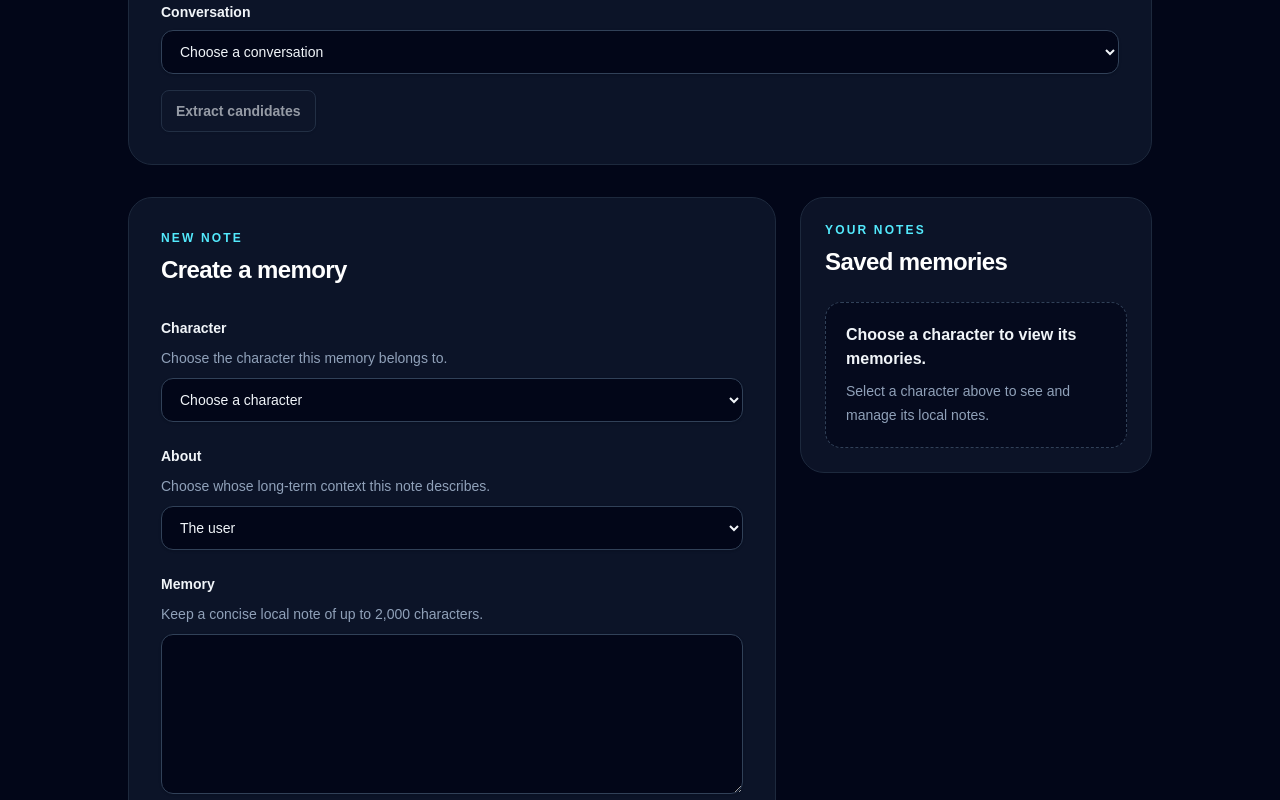
it: MemoryManagementScreen › creates and edits a memory for the selected character
(page scrolled)
Expected: the heading "Create a memory" is shown, [161,254,347,286]
Step 1. Select "Astra" in the dropdown labelled "Character" → (452, 400), box [161,378,743,422]
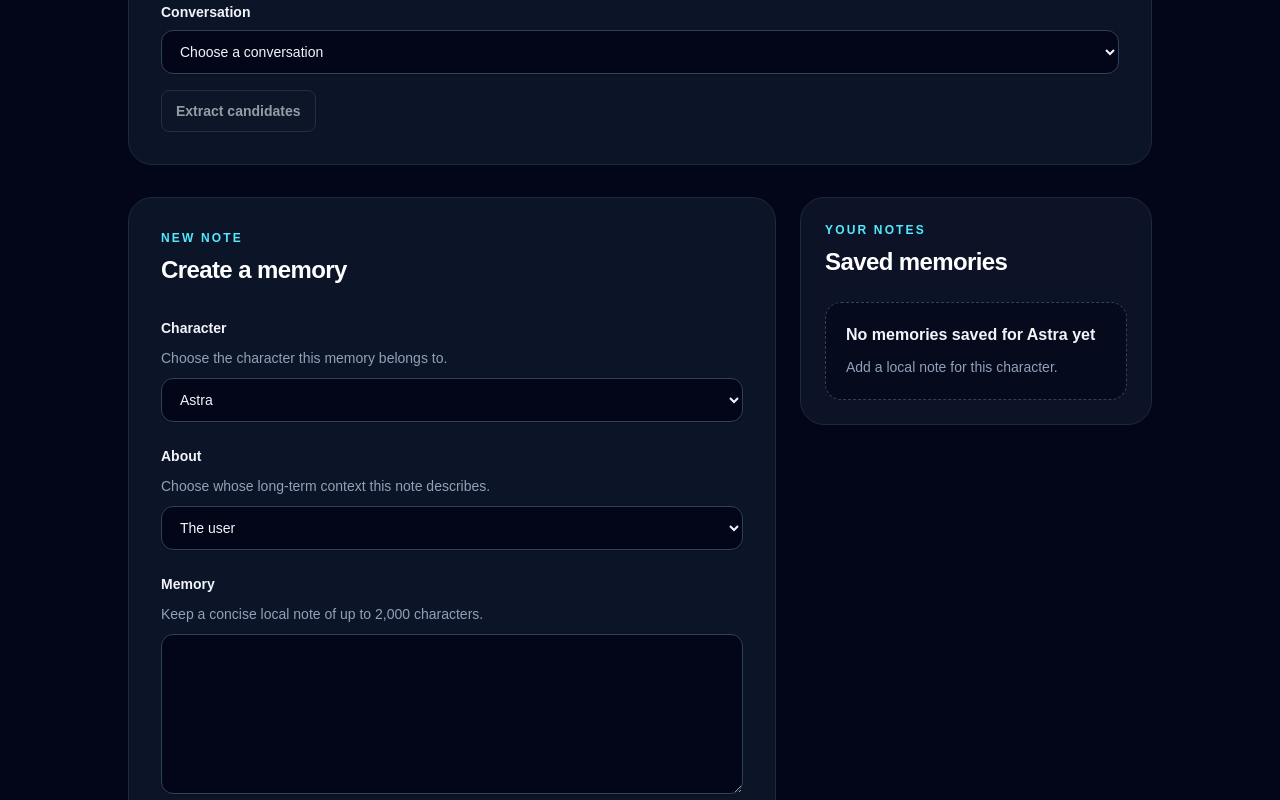
Step 2. Type "Prefers concise answers." into the text box labelled "Memory" → (452, 714), box [161,634,743,794]
(page scrolled)
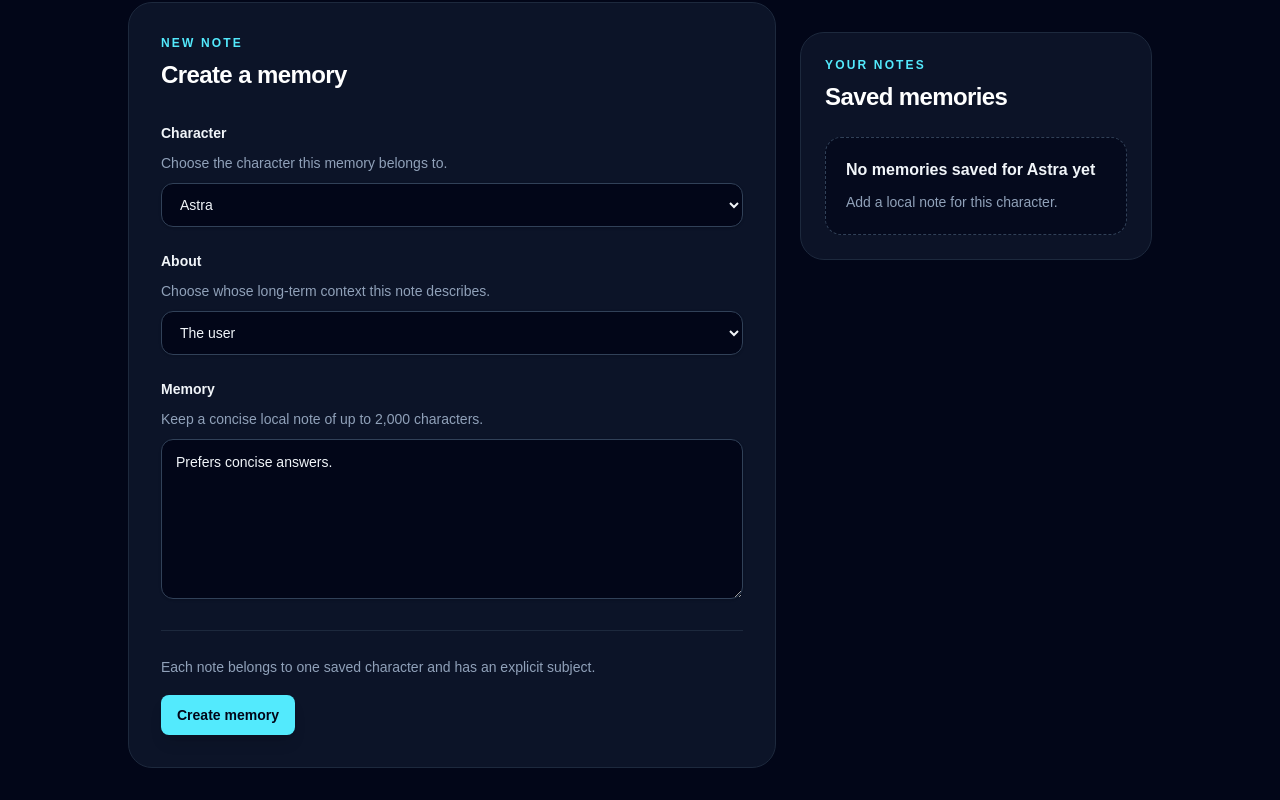
Step 3. Click the button "Create memory" → (228, 715), box [161,695,295,735]
(page scrolled)
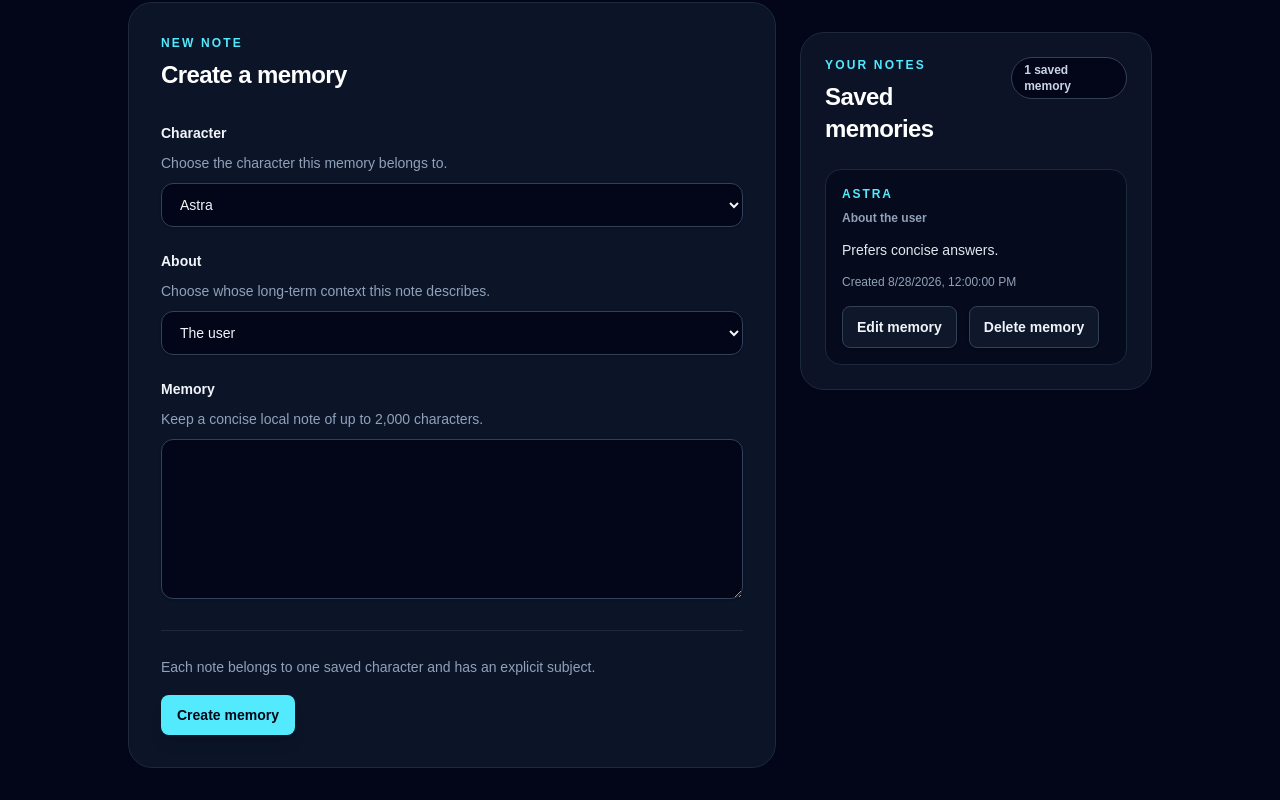
Now the text "Prefers concise answers." is shown, box [842,242,998,258]
Now the button with aria-label "Delete memory 1: Prefers concise answers." is shown, box [969,306,1099,348]
Step 4. Click the button with aria-label "Edit memory 1: Prefers concise answers." → (899, 327), box [842,306,957,348]
(page scrolled)
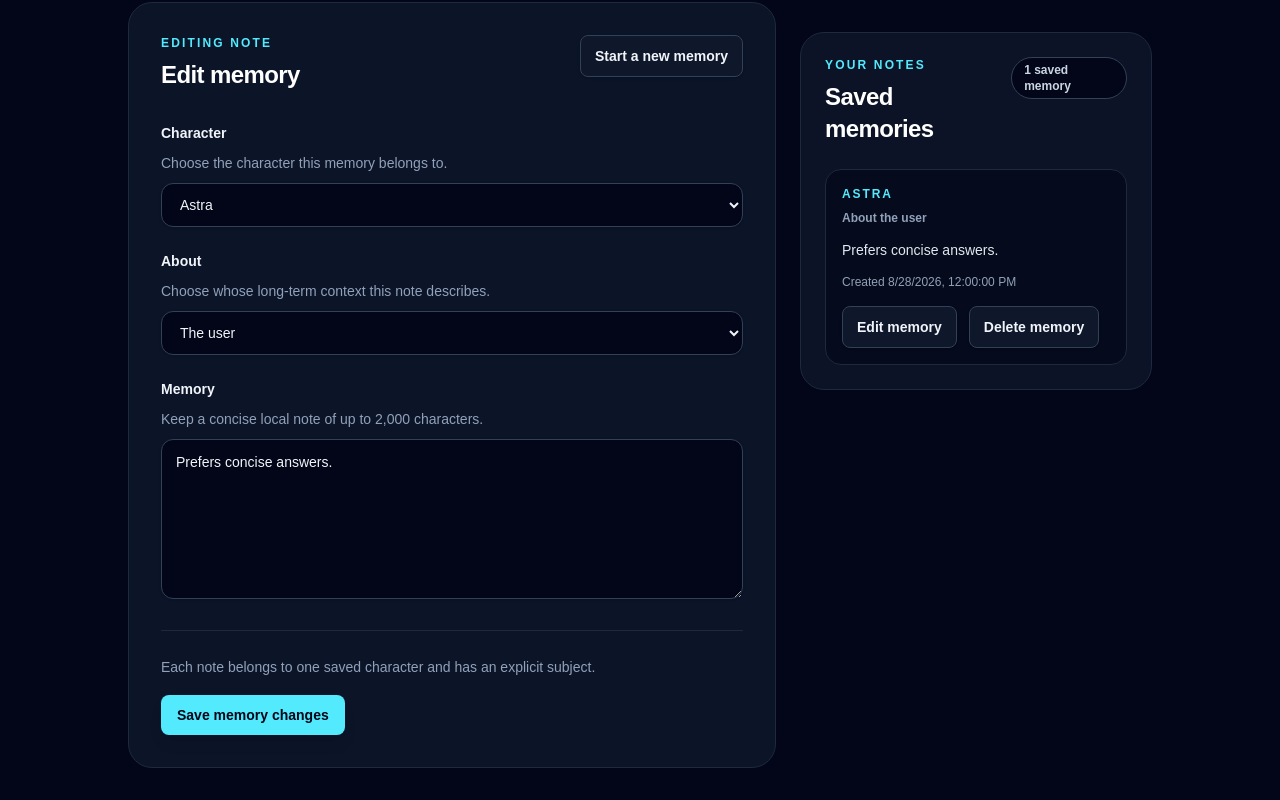
Step 5. Replace the text in the text box labelled "Memory" with "Prefers direct answers." → (452, 519), box [161,439,743,599]
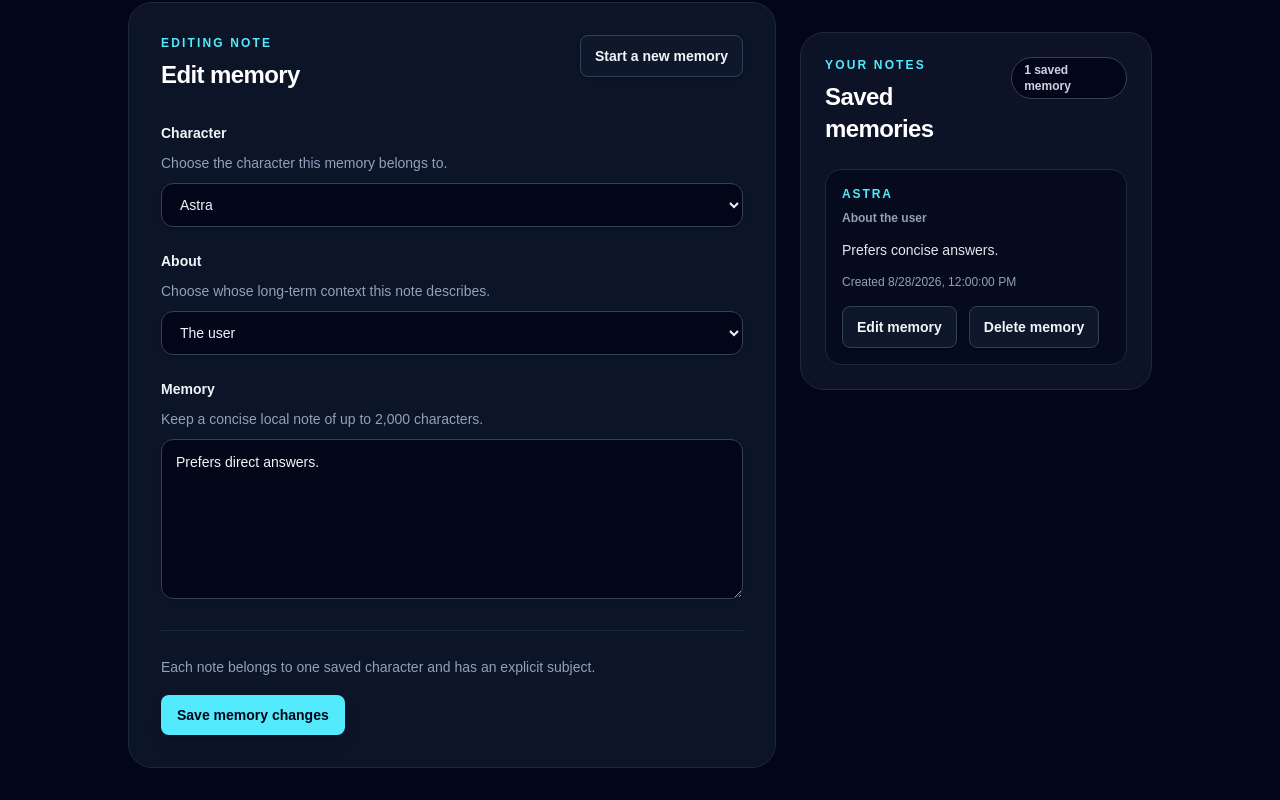
Step 6. Click the button "Save memory changes" → (253, 715), box [161,695,345,735]
(page scrolled)
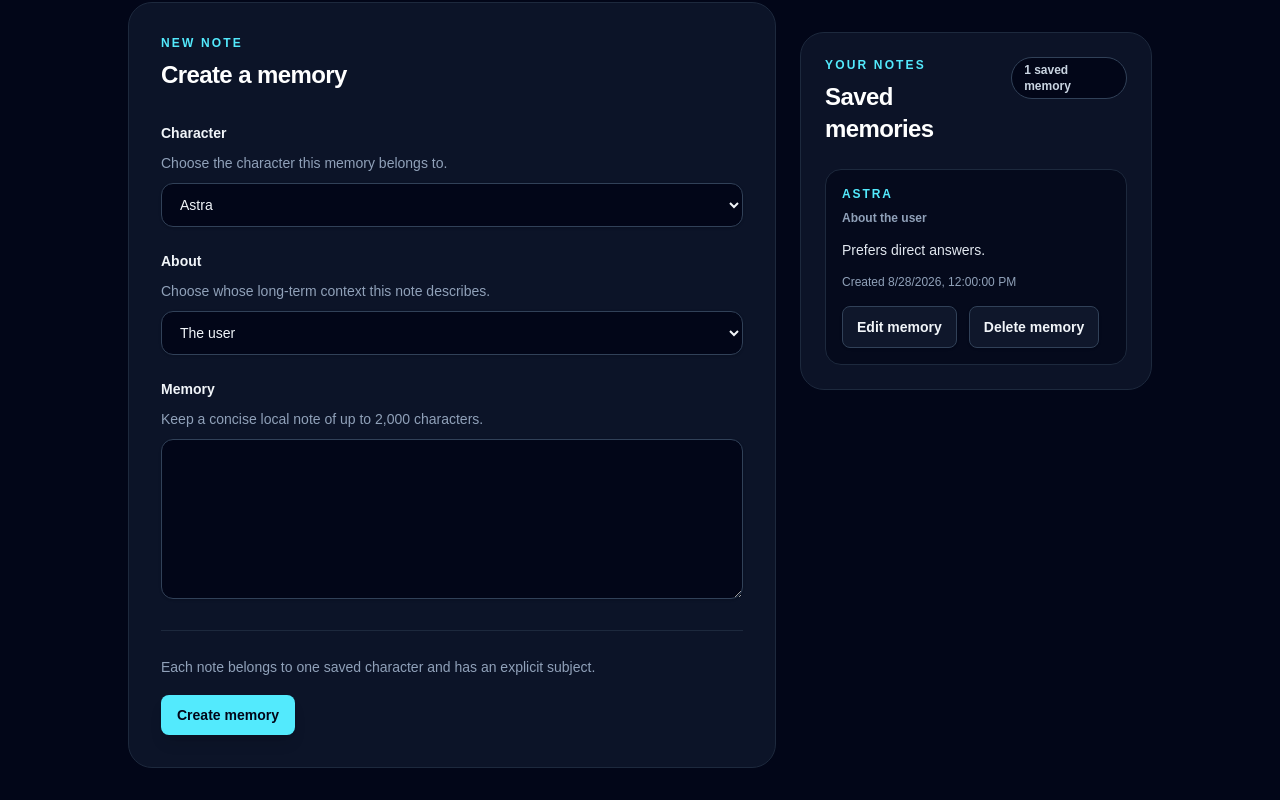
Now the text "Prefers direct answers." is shown, box [842,242,985,258]
